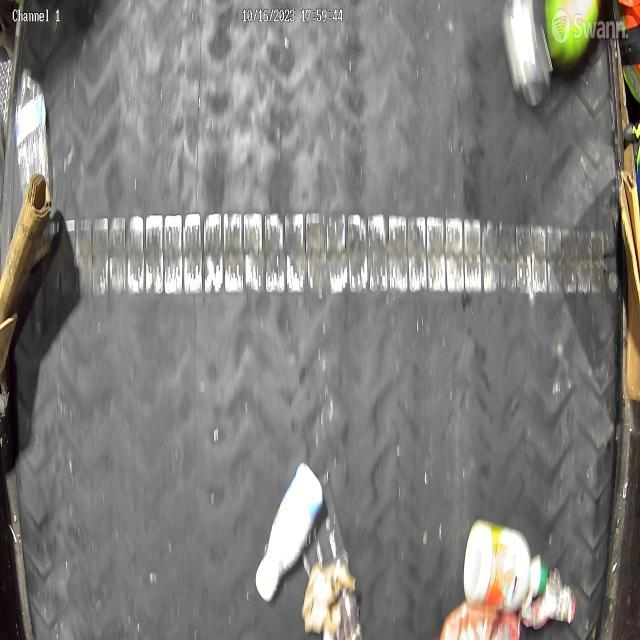plastic_bottle: (14, 66, 50, 205)
